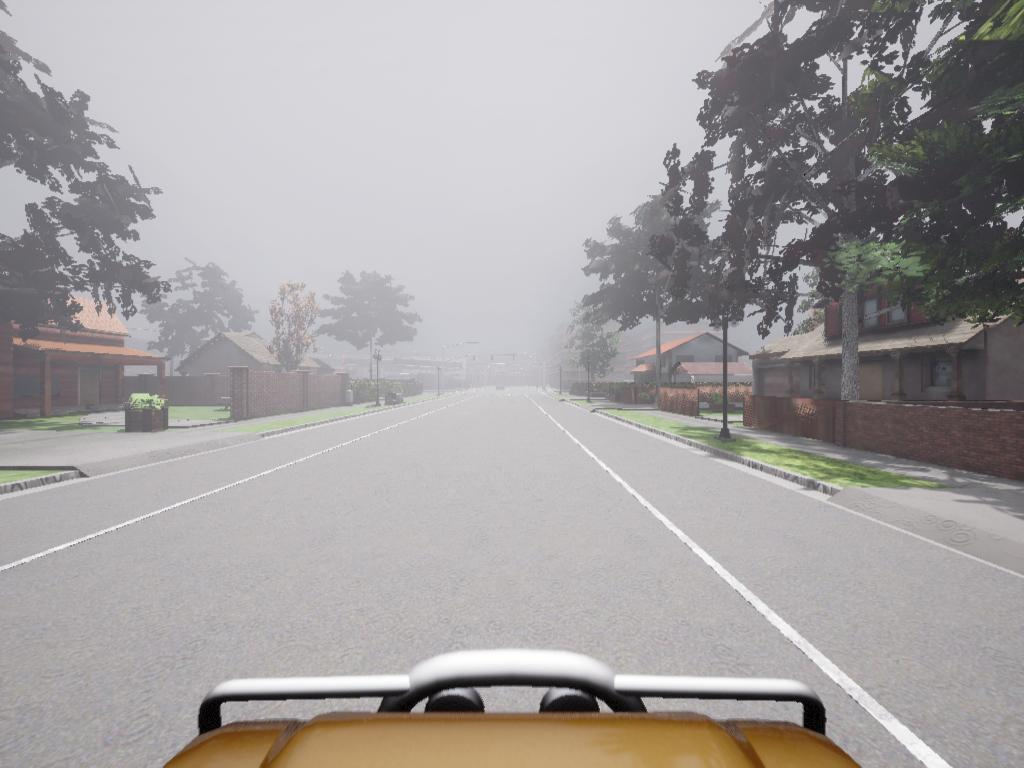traffic_light: (491, 355, 495, 362), (473, 356, 477, 362), (514, 355, 516, 362)
